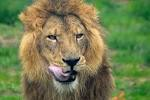lion: (12, 1, 117, 98)
